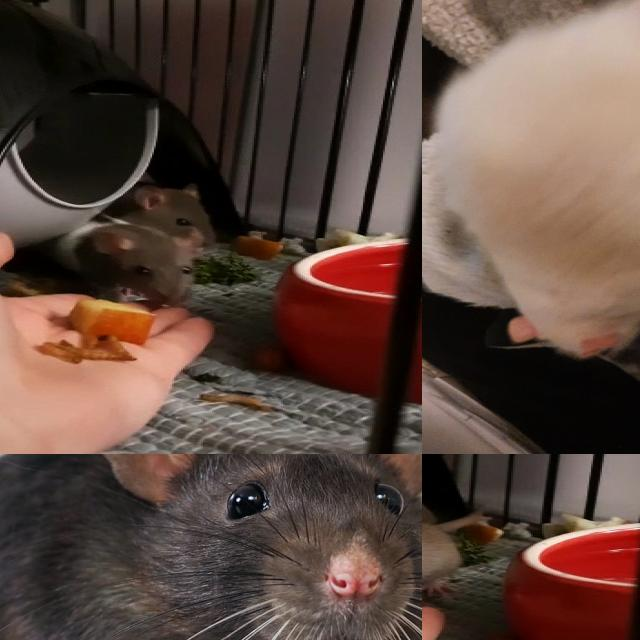rat: (0, 454, 422, 640), (427, 0, 640, 362), (58, 219, 201, 309)
